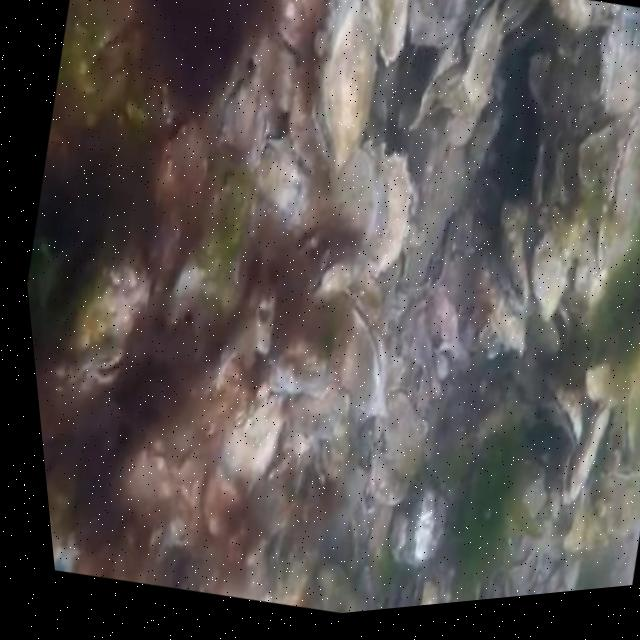Oyster-Closed: (53, 250, 151, 396), (595, 110, 640, 265), (338, 302, 389, 412), (562, 405, 609, 504), (221, 85, 271, 175), (533, 374, 582, 447), (269, 338, 331, 395), (310, 260, 353, 309), (465, 0, 499, 55), (498, 0, 538, 39), (619, 401, 637, 458)
Oyster-Indeterminate: (314, 1, 375, 178), (329, 143, 408, 271), (499, 195, 539, 300), (253, 135, 302, 220), (597, 19, 640, 110), (395, 492, 446, 564), (583, 345, 640, 404), (383, 393, 423, 477), (408, 0, 468, 48), (531, 236, 564, 313), (367, 0, 408, 59), (580, 126, 615, 193), (547, 0, 625, 23), (531, 53, 563, 109)
Oyster-Open: (527, 303, 572, 356), (532, 143, 565, 210)
